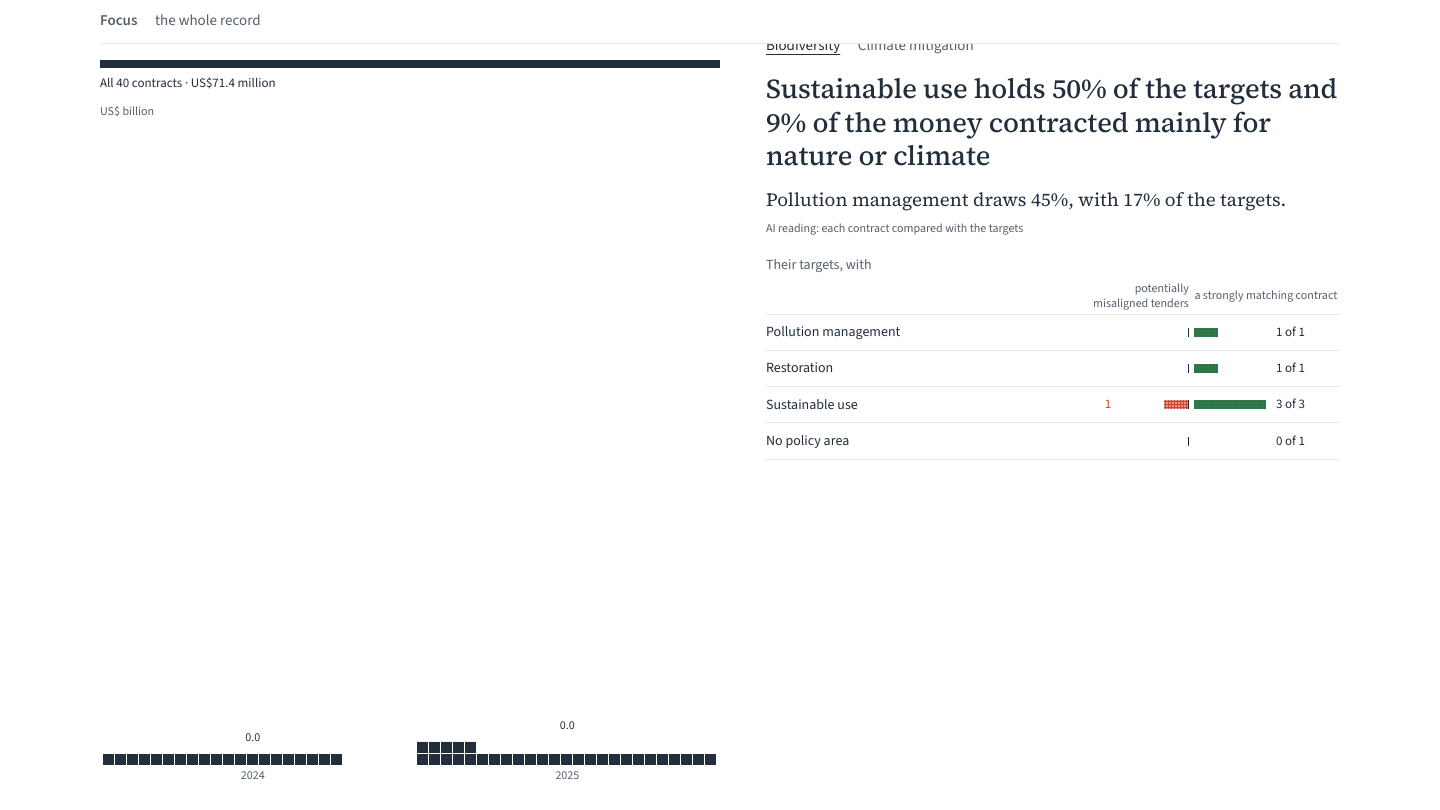
Scenario: ContractsPage › carries a policy area chosen in the overview to the focus line and to where to look closer
This screenshot has width=1440, height=810.
(page scrolled)
Step 1. Click the button "Sustainable use 1 3 of 3" → click(812, 405), box [766, 387, 1340, 424]
(page scrolled)
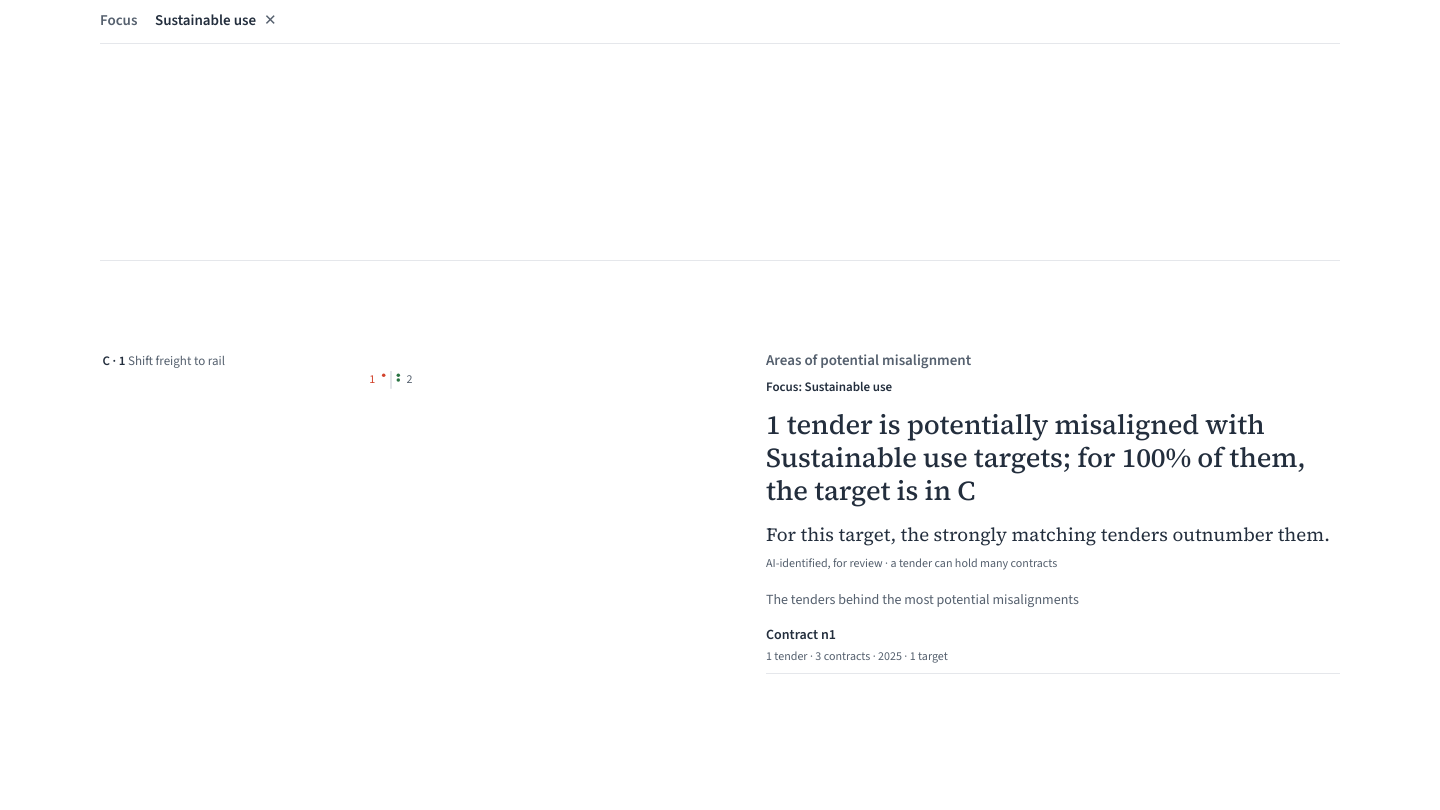
Expected: the element "Focus" shows "Sustainable use", [155, 11, 256, 32]
Expected: the heading shows "1 tender is potentially misaligned with Sustainable use targets; for 100% of them, the target is in C", [766, 406, 1306, 509]
